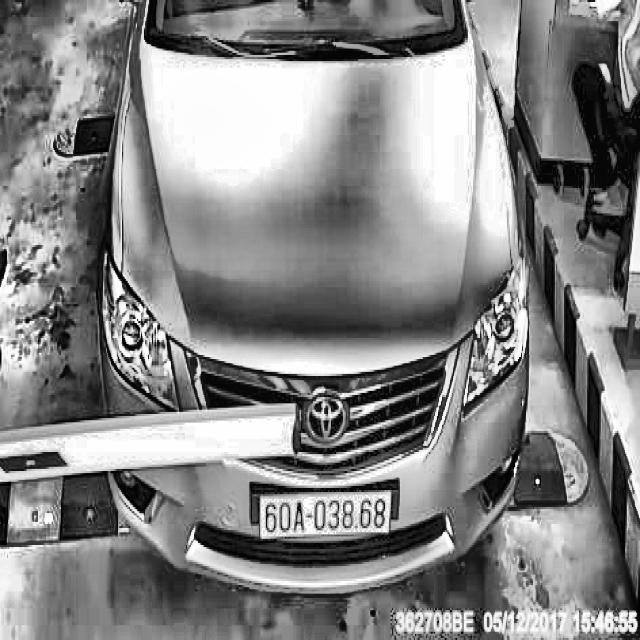plate: (257, 482, 398, 546)
